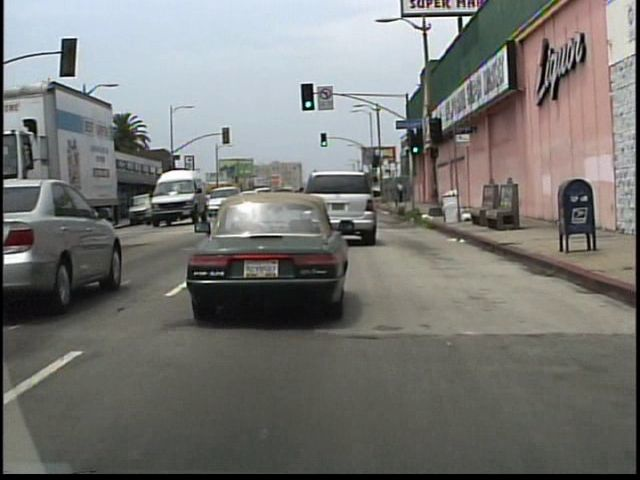person: (397, 181, 406, 205)
